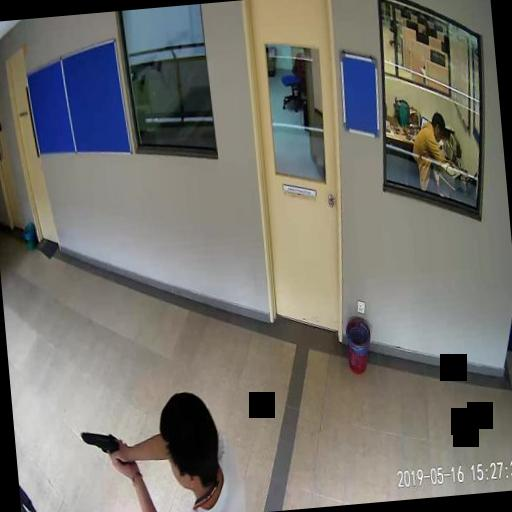Handgun: (80, 427, 126, 471)
